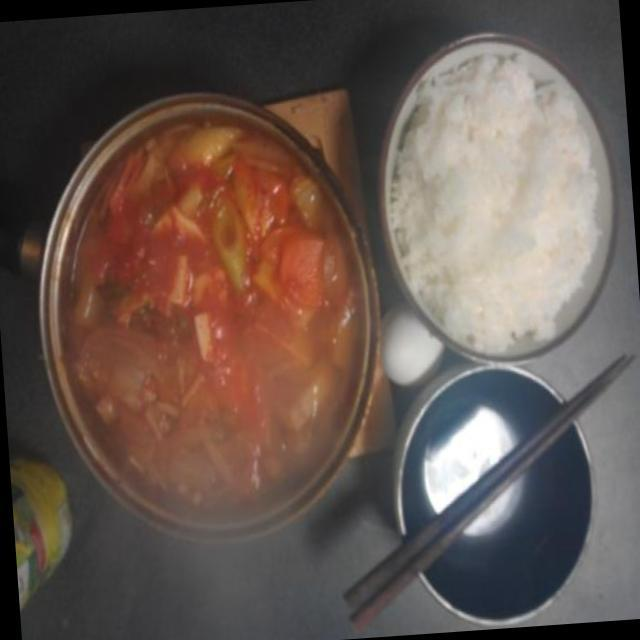Rice: (386, 61, 610, 357)
